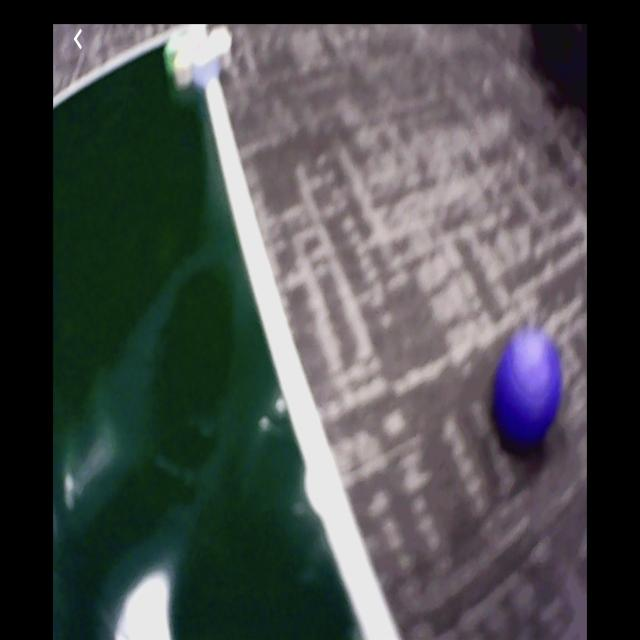ball: (491, 336, 563, 447)
